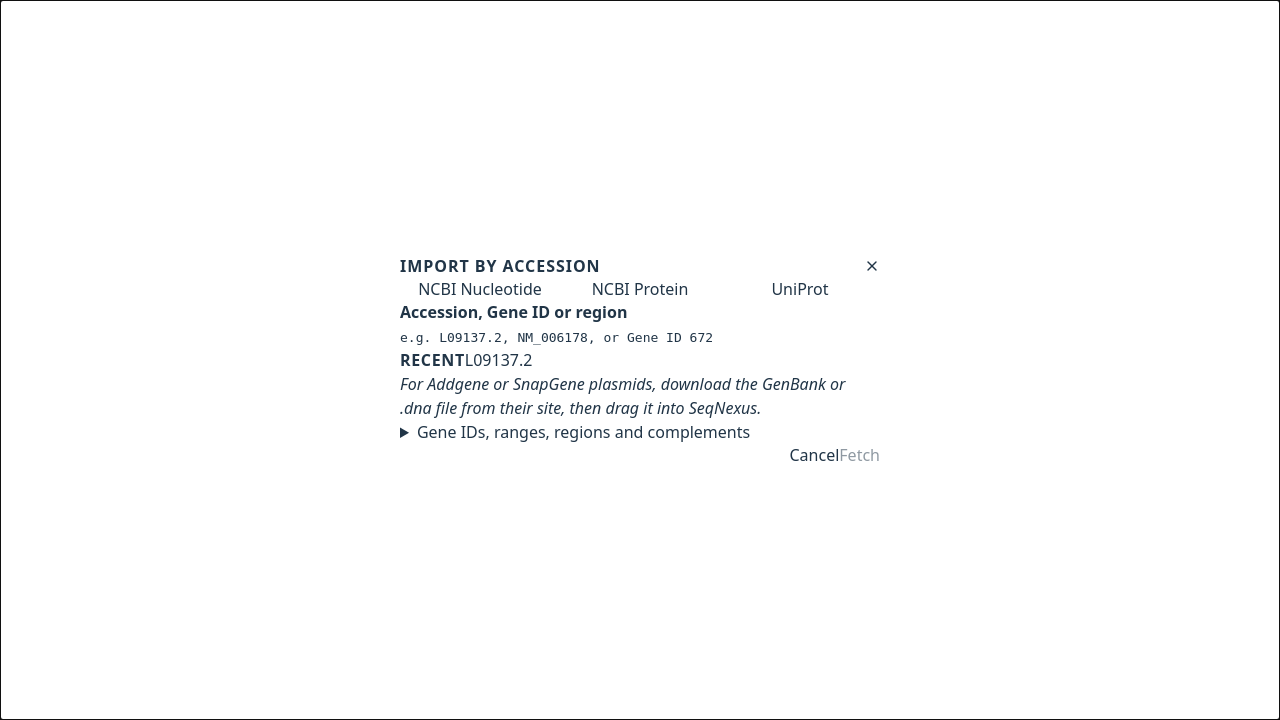
Test: FetchDialog › fetches several accessions and keeps the ones that failed to try again
This screenshot has width=1280, height=720.
Type "L09137.2, BAD1 J01636" into the field with placeholder "e.g. L09137.2, NM_006178, or Gene ID 672". click: [640, 338]
box: x1=400 y1=330 x2=880 y2=345
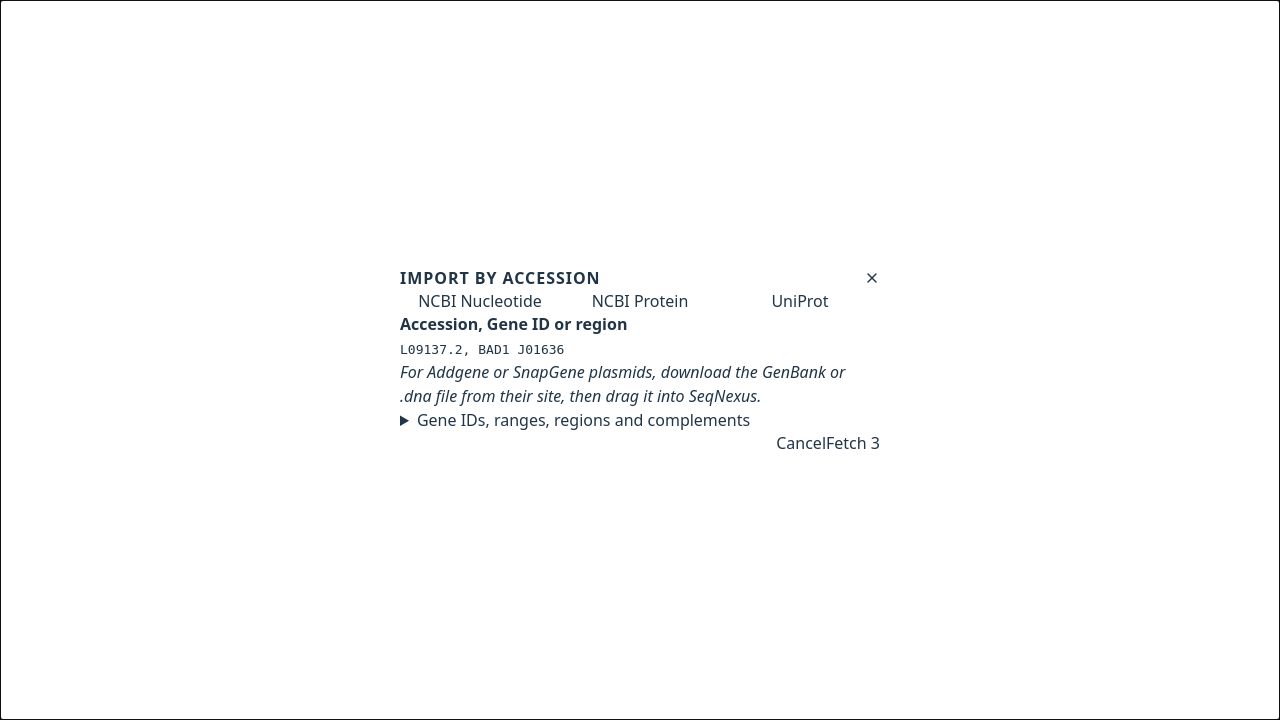
Click the button "Fetch 3". click: [853, 443]
box: x1=826 y1=432 x2=880 y2=454
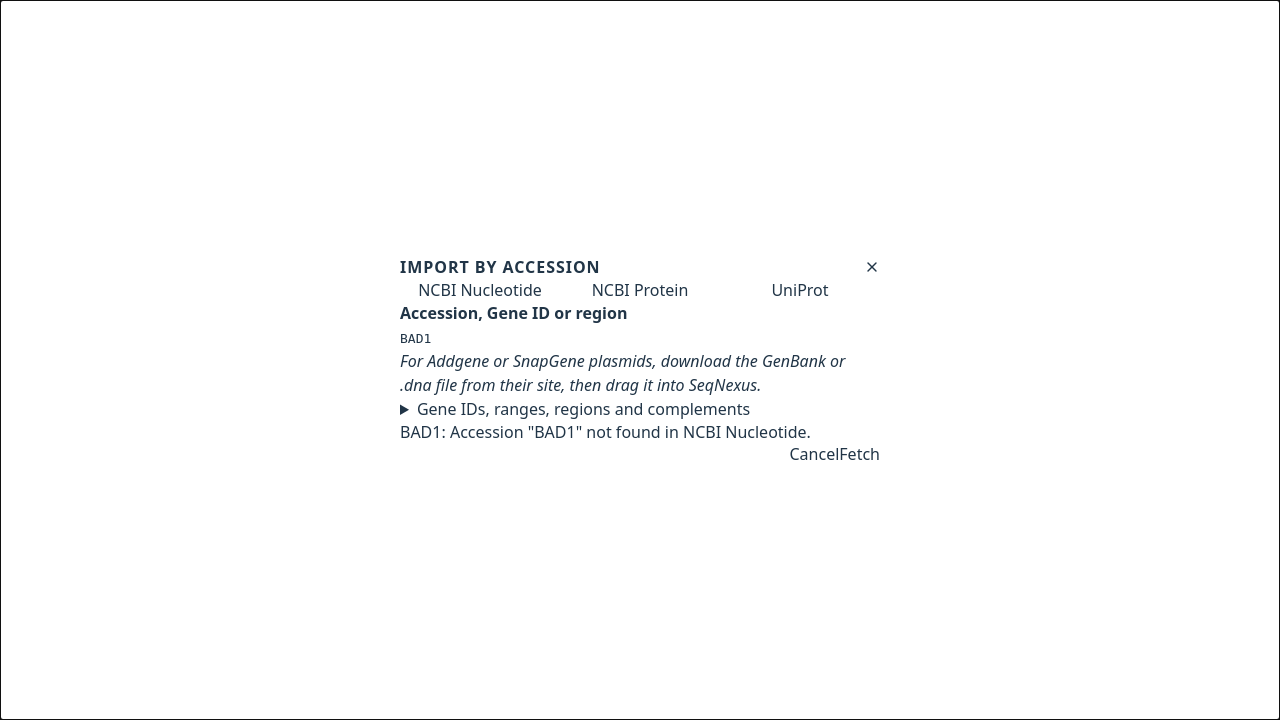
Check: the field with placeholder "e.g. L09137.2, NM_006178, or Gene ID 672" holds "BAD1", box x1=400 y1=331 x2=880 y2=346
Check: the message shows "BAD1: Accession \"BAD1\" not found", box x1=400 y1=421 x2=811 y2=443
